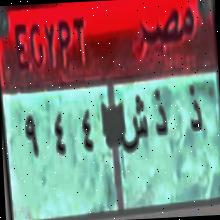4: (50, 108, 68, 165), (77, 102, 94, 160)
9: (21, 112, 44, 166)
sheen: (119, 91, 150, 156)
zaal: (180, 80, 207, 136), (150, 84, 170, 146)
